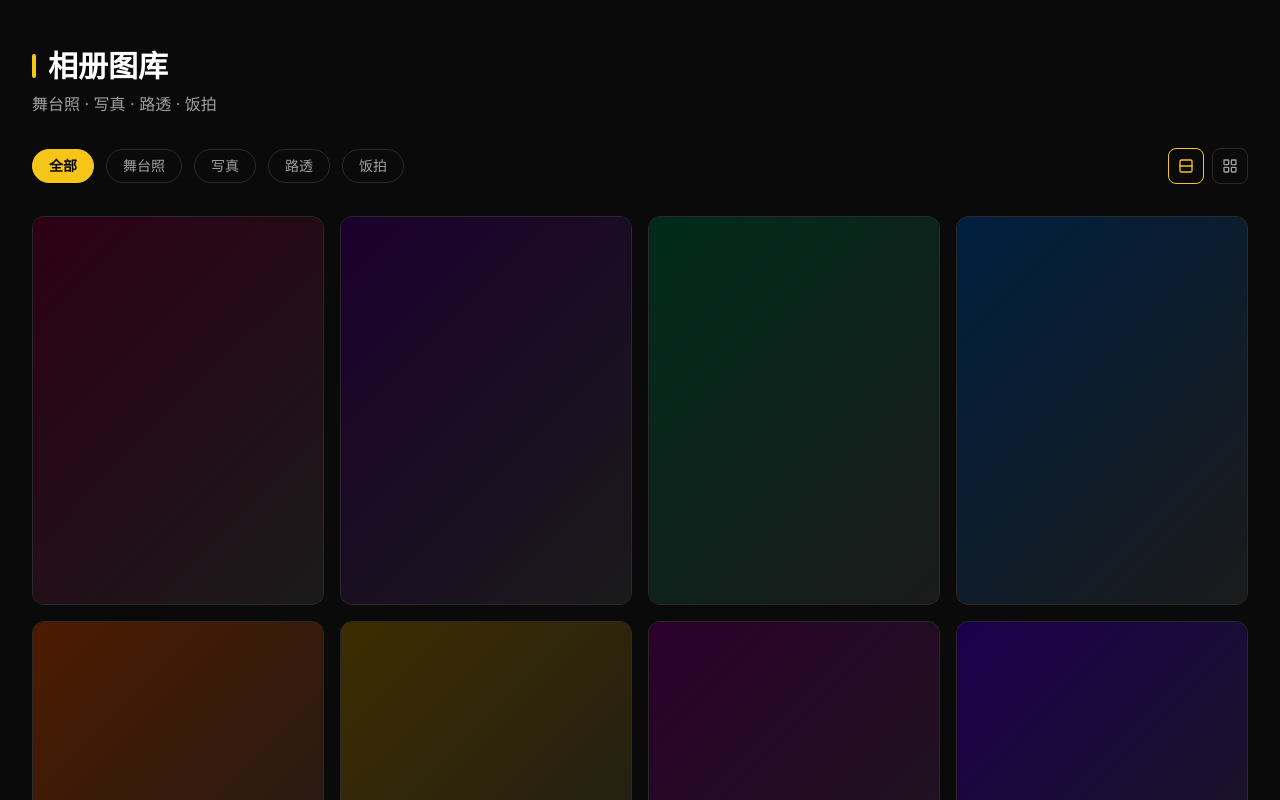
Scenario: 相册图库页 (Issue #11) › TC-02 分类筛选（写真）
Click the button with test id "gallery-album-写真" at (225, 166), box [194,149,256,183]
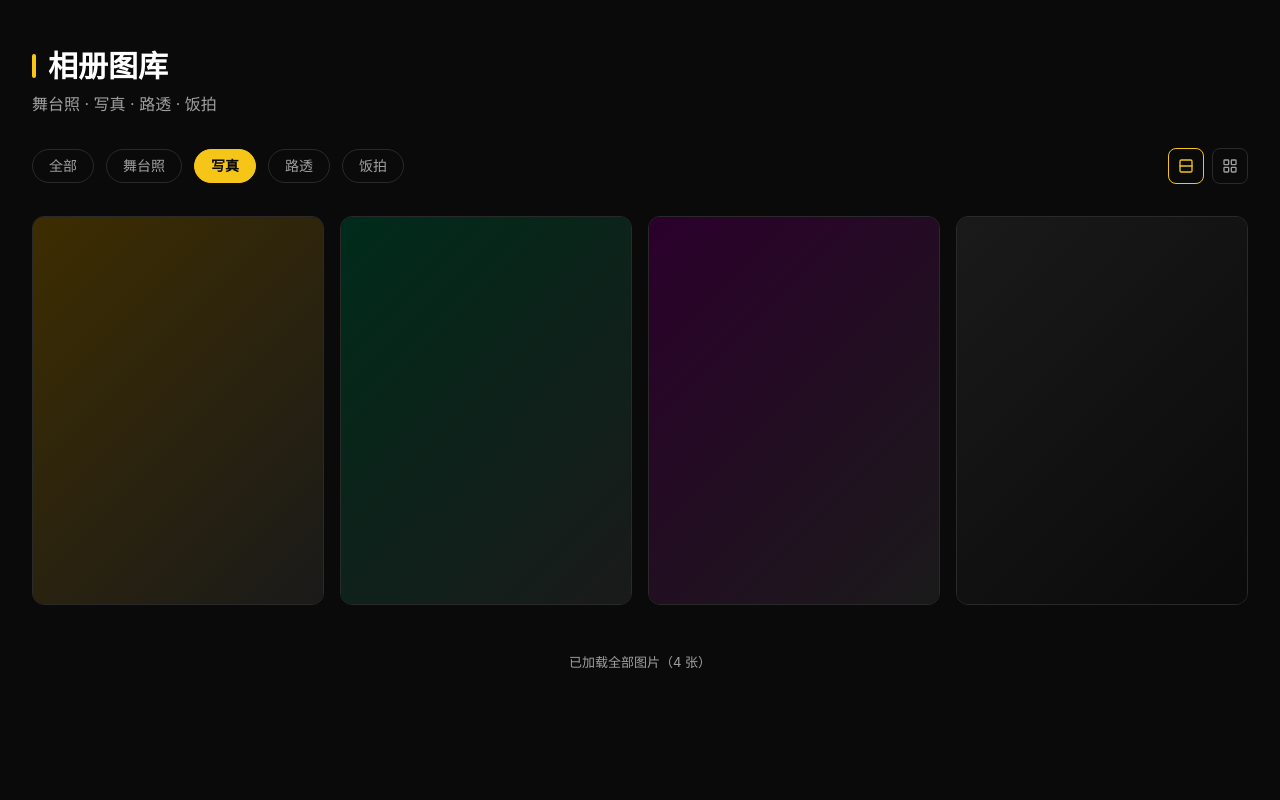
Check: the button with test id "gallery-photo-p-001" is gone
